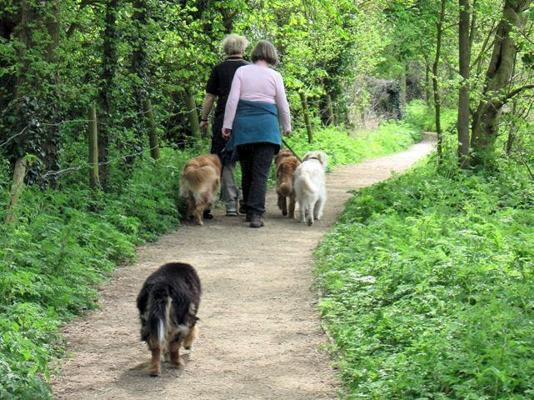person: (221, 43, 293, 224)
